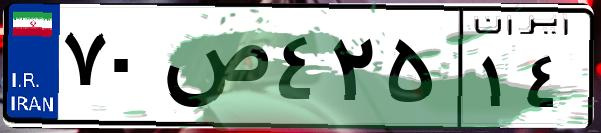0: (110, 28, 158, 98)
1: (475, 38, 525, 113)
2: (330, 28, 385, 110)
4: (270, 28, 330, 110), (525, 38, 570, 115)
5: (385, 28, 445, 110)
7: (57, 26, 110, 100)
ص: (158, 20, 270, 120)
